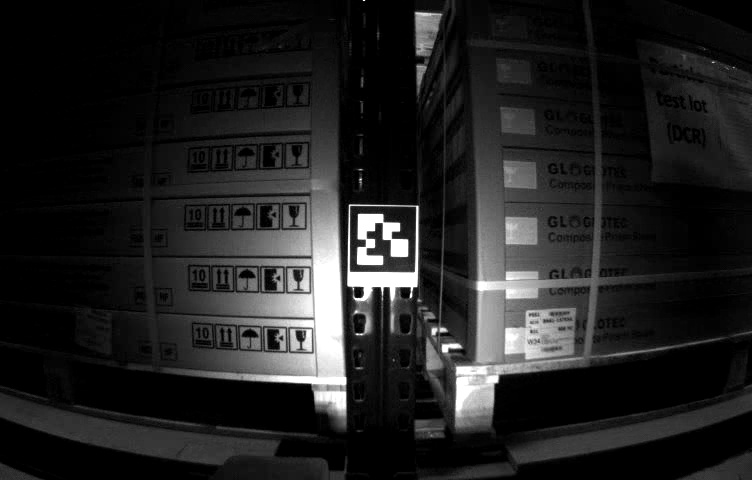True Barcode: (524, 305, 578, 358), (75, 307, 112, 357)
